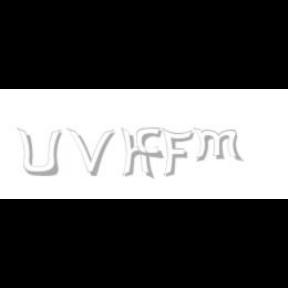F: (161, 128, 193, 178)
U: (16, 128, 62, 178)
V: (67, 128, 115, 176)
c: (136, 128, 166, 160)
h: (120, 128, 156, 180)
m: (192, 128, 244, 162)
